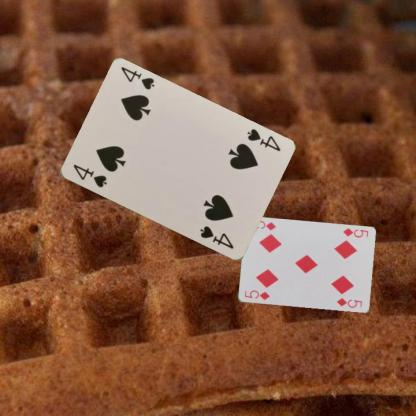4s: (70, 162, 108, 189), (244, 126, 282, 153)
5d: (340, 225, 370, 239), (242, 288, 270, 302)
